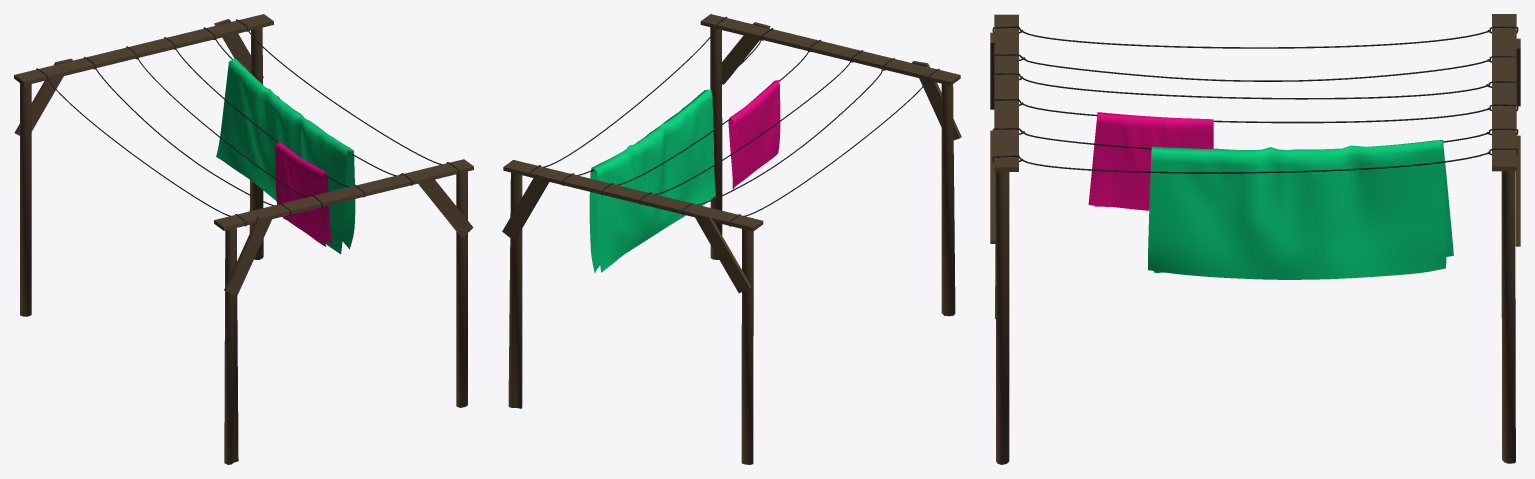
Rendered from objClothingLine.fbx.
3 views of the same model, side by side, from view 1: azimuth 30°, elevation 25°; view 2: azimuth 150°, elevation 25°; view 3: azimuth 270°, elevation 25° (orthographic). The views are drawn at different scales.
Visible parts, largest first — view 1: ClothingLine, Cloth, Cloth.001, ClothingLineLine; view 2: ClothingLine, Cloth, Cloth.001, ClothingLineLine; view 3: Cloth, ClothingLine, Cloth.001, ClothingLineLine.
Part boxes in pixels (bbox=[...]): ClothingLine: bbox=[14, 14, 473, 464]; Cloth: bbox=[216, 58, 355, 254]; Cloth.001: bbox=[275, 142, 332, 246]; ClothingLineLine: bbox=[36, 19, 458, 226]; ClothingLine: bbox=[502, 14, 961, 464]; Cloth: bbox=[589, 89, 715, 273]; Cloth.001: bbox=[728, 80, 780, 189]; ClothingLineLine: bbox=[530, 16, 939, 226]; Cloth: bbox=[1148, 140, 1453, 279]; ClothingLine: bbox=[990, 14, 1520, 464]; Cloth.001: bbox=[1088, 112, 1213, 210]; ClothingLineLine: bbox=[992, 26, 1518, 173].
Bounding box in the file's own units: 796 × 545 × 500.
